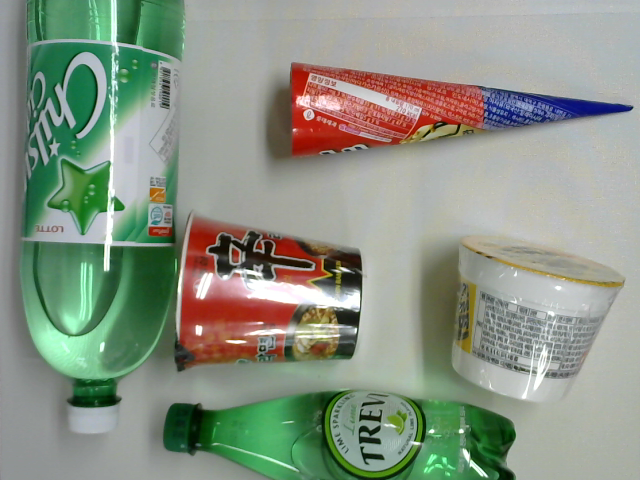Chilseong_Cider_1.5L: (19, 1, 185, 435)
Hejangmini: (453, 234, 624, 402)
Sinramen_small: (170, 208, 365, 373)
Treviraim_500ml: (162, 389, 516, 480)
World_Cone_Banila: (288, 61, 634, 155)
